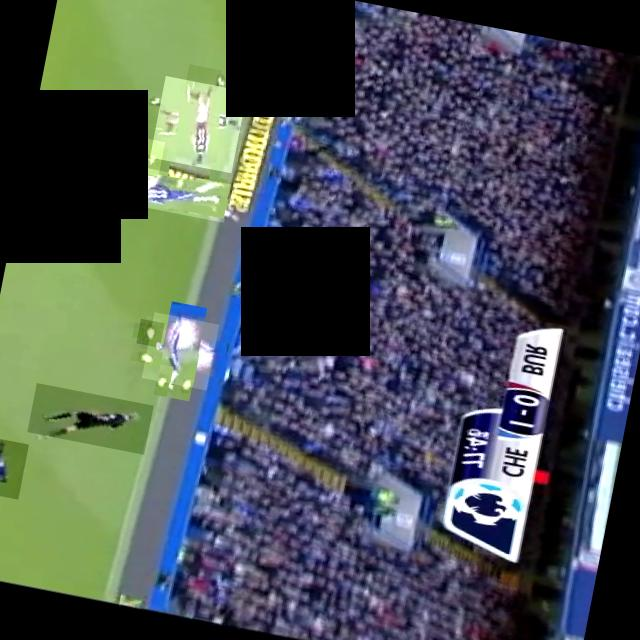ball: (136, 318, 163, 348)
referee: (26, 383, 152, 455)
soccer-player: (149, 76, 246, 173), (119, 164, 230, 223), (52, 122, 165, 176), (140, 312, 218, 390), (17, 153, 70, 209), (0, 433, 27, 499)
